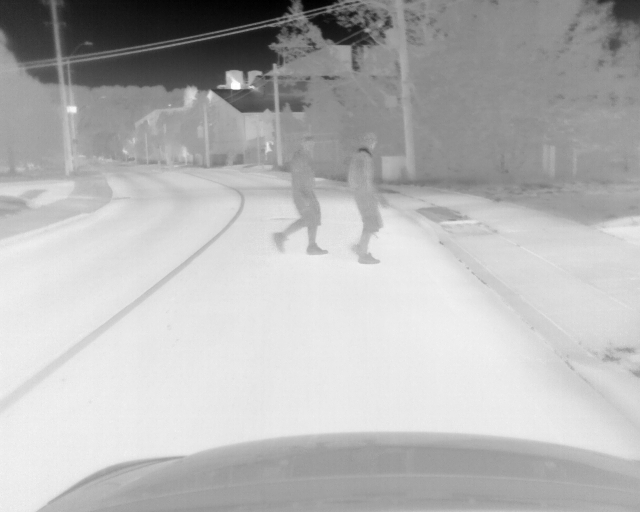people: (270, 136, 328, 256), (346, 133, 386, 265)
